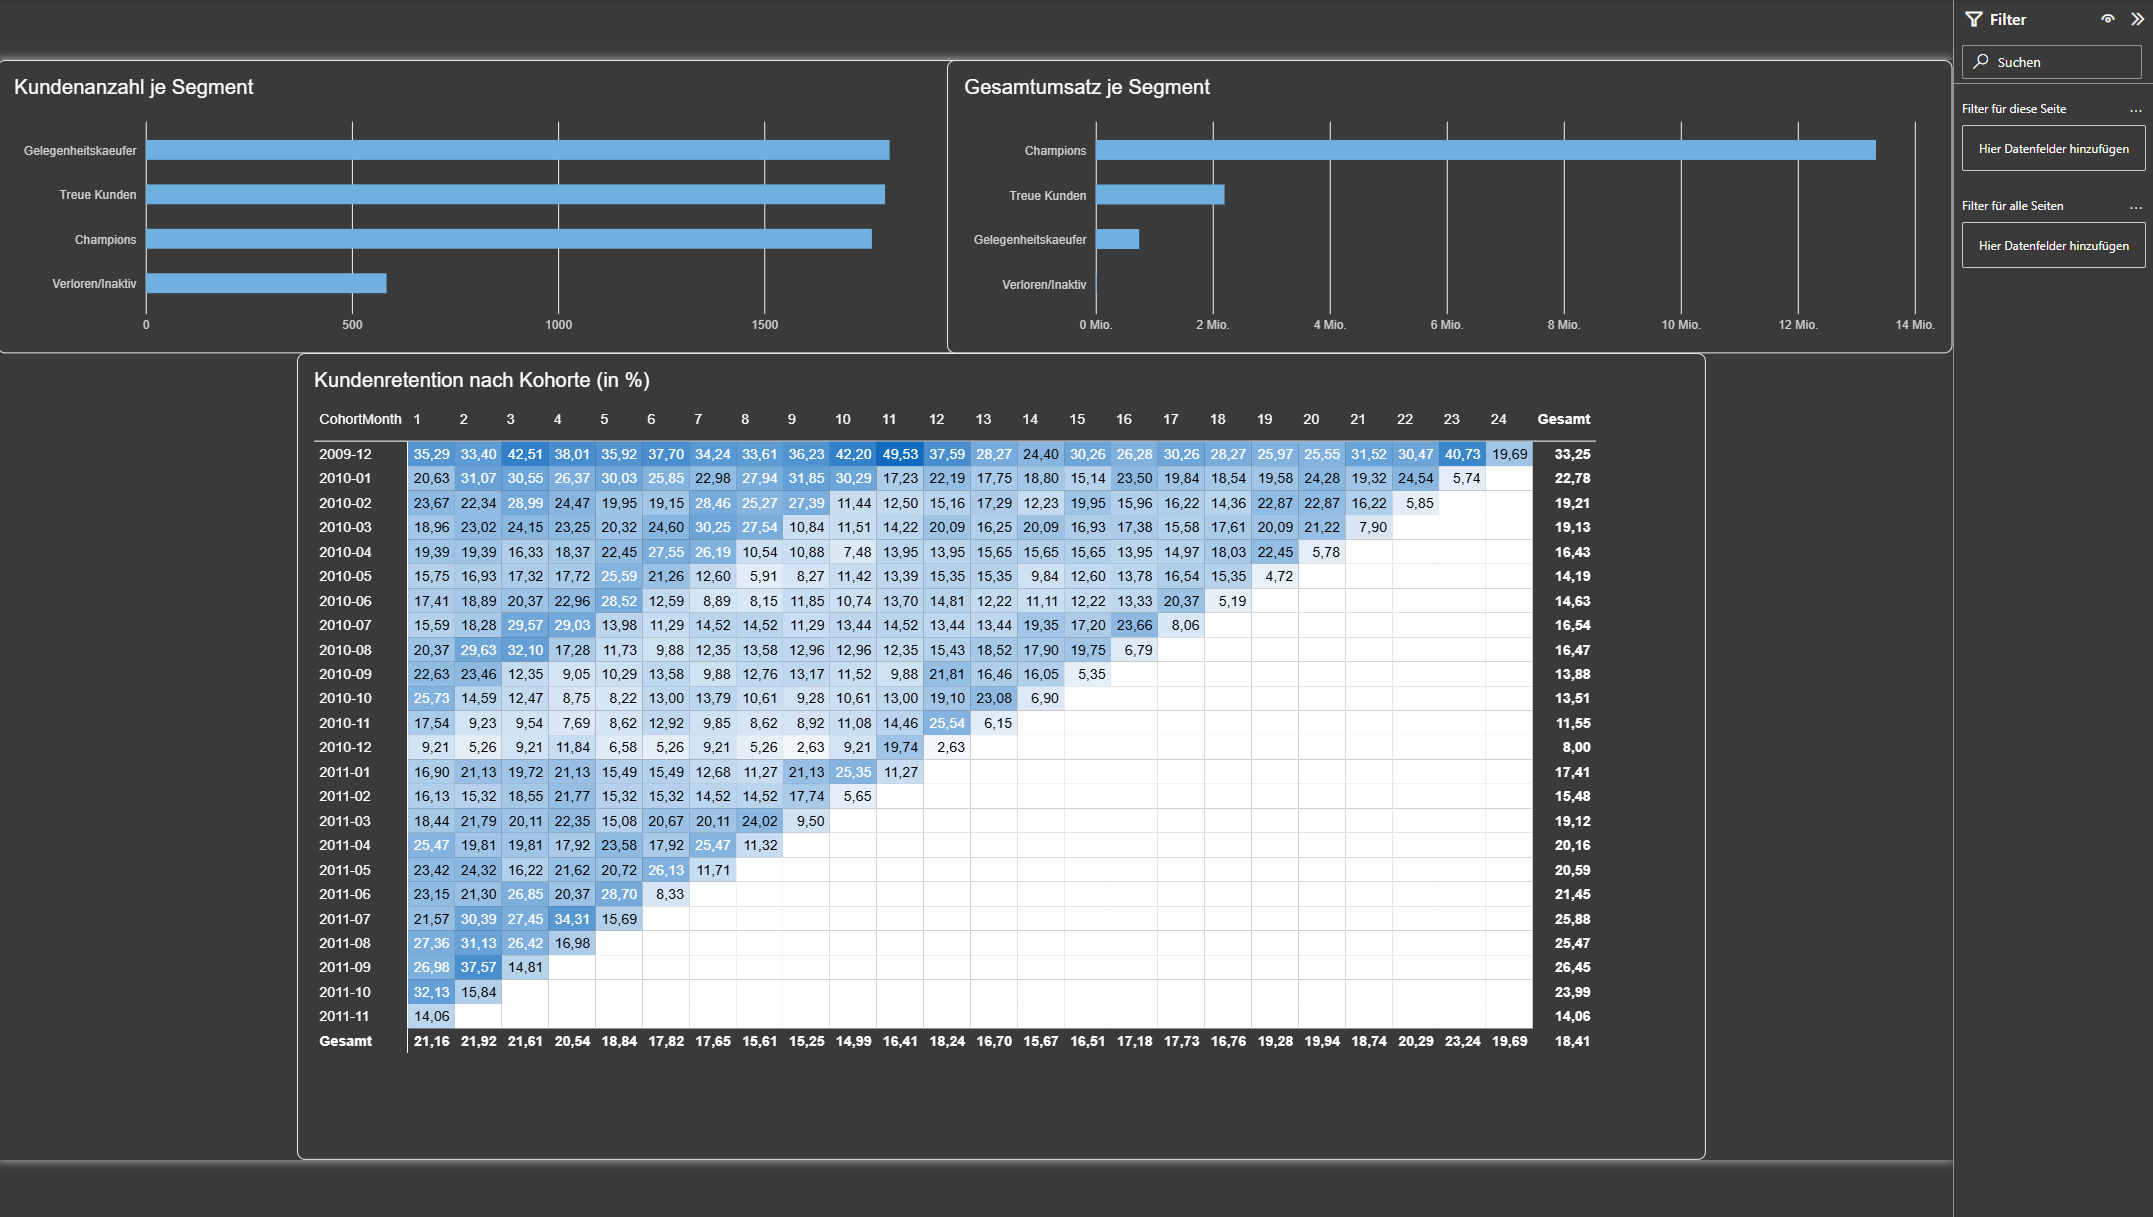

The dashboard page shown, as its layout file describes it:
{"tool":"powerbi","page":{"name":"Segmente & Retention","canvas":[1920,1080],"ordinal":1},"visuals":[{"type":"clusteredBarChart","title":"Kundenanzahl je Segment","fields":{"Category":["customer_rfm.Segment"],"Y":["online_retail_clean.Anzahl Kunden"]},"box":[0,0,986.5,287.6],"z":0},{"type":"clusteredBarChart","title":"Gesamtumsatz je Segment","fields":{"Category":["customer_rfm.Segment"],"Y":["online_retail_clean.Gesamtumsatz"]},"box":[932.5,0,987,288],"z":1000},{"type":"pivotTable","title":"Kundenretention nach Kohorte (in %)","fields":{"Columns":["cohort_retention.MonatSeitEinkauf"],"Rows":["cohort_retention.CohortMonth"],"Values":["Avg(cohort_retention.RetentionProzent)"]},"box":[294.5,287.6,1383.1,792.1],"z":2000}]}

Visuals, with their boxes on the page's 1920x1080 design canvas (x1, y1, x2, y2). These are canvas units, not pixel positions in the 2153x1217 screenshot, which may show the page scaled, cropped or inside an application window:
"Kundenanzahl je Segment" clusteredBarChart: bbox(0, 0, 986, 288)
"Gesamtumsatz je Segment" clusteredBarChart: bbox(932, 0, 1920, 288)
"Kundenretention nach Kohorte (in %)" pivotTable: bbox(294, 288, 1678, 1080)
